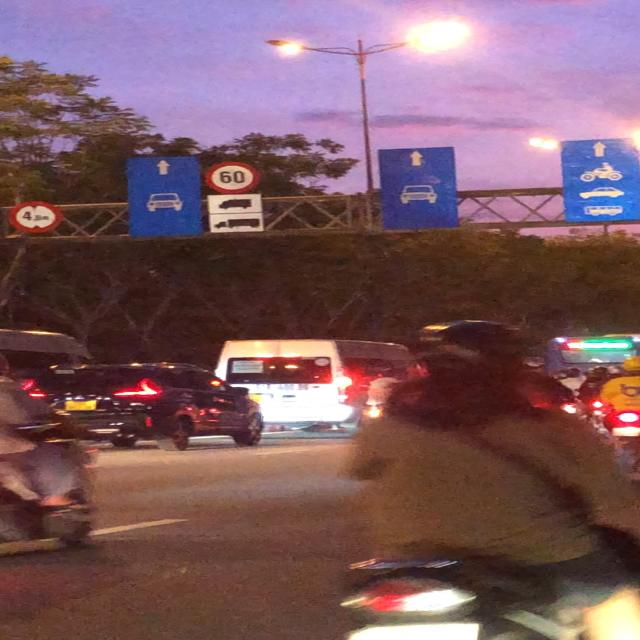Bien bao han che chieu cao: (2, 198, 61, 234)
Bien bao toc do toi da cho phep: (202, 158, 265, 196)
